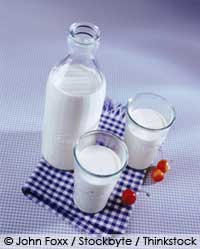glass of milk: (42, 66, 100, 164), (73, 131, 122, 214), (123, 94, 172, 171)
